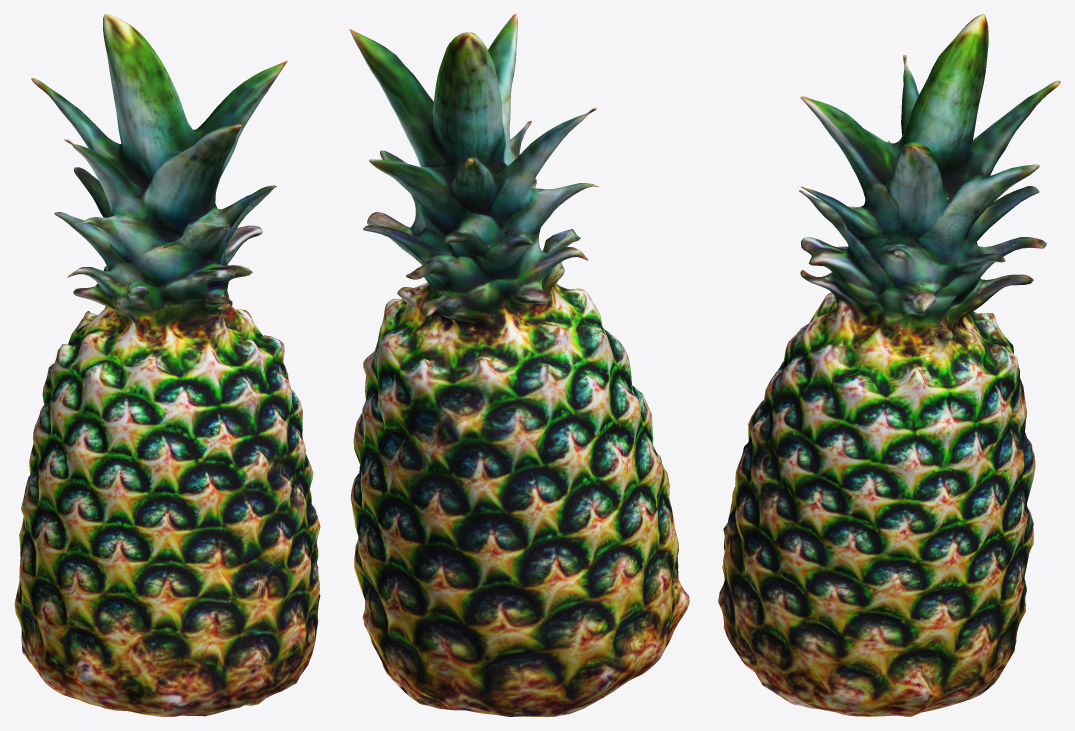
Rendered from Pineapple.glb.
3 renders of one model, left to right at view 1: azimuth 30°, elevation 25°; view 2: azimuth 150°, elevation 25°; view 3: azimuth 270°, elevation 25°, orthographic. The views are drawn at different scales.
Visible parts, largest first — view 1: Pineapple_Photoscan.001; view 2: Pineapple_Photoscan.001; view 3: Pineapple_Photoscan.001.
Boxes of the visible parts, <box> form: Pineapple_Photoscan.001: <box>14,14,320,716</box>; Pineapple_Photoscan.001: <box>349,14,689,716</box>; Pineapple_Photoscan.001: <box>718,14,1060,716</box>.
Bounding box in the file's own units: 0.2721 × 0.6203 × 0.2917.
Materials: 1 (1 with a texture image).
